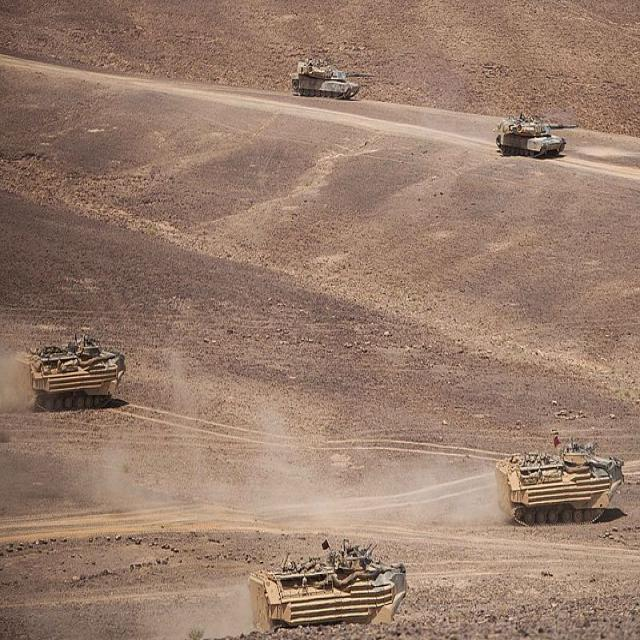Tanks: (246, 537, 408, 637), (488, 438, 626, 530), (20, 337, 128, 415), (492, 111, 578, 162), (288, 56, 375, 104)
